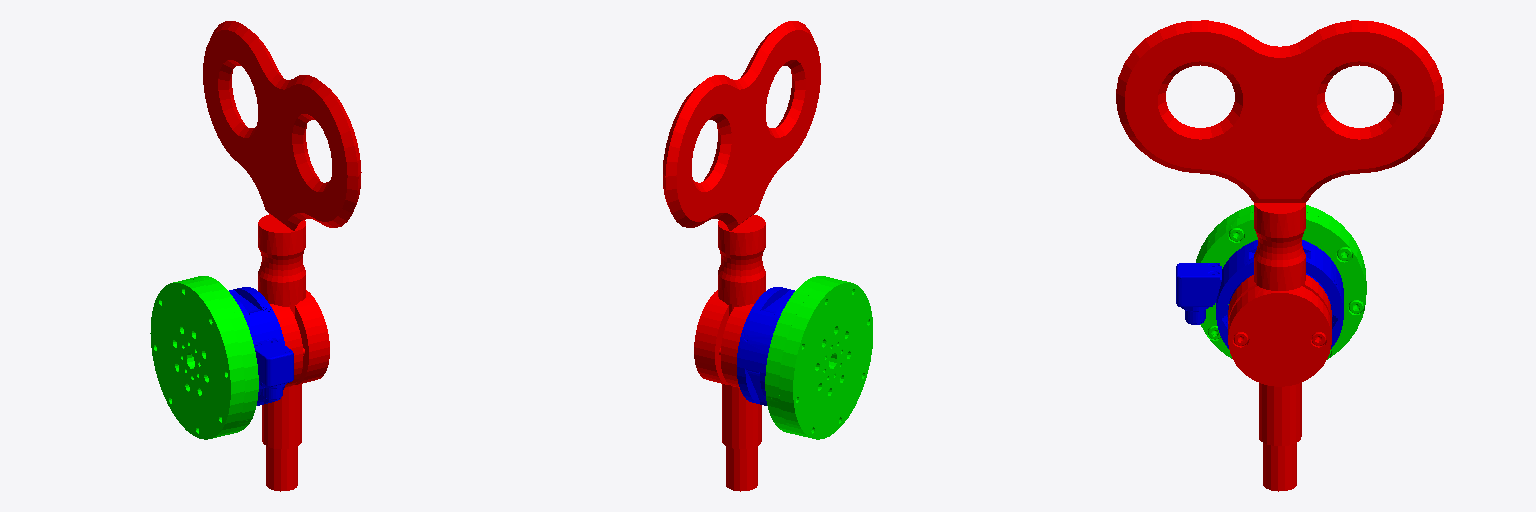
URDF robot description (kuka_kr16_2):
<?xml version="1.0" ?>
<!-- =================================================================================== -->
<!-- |    This document was autogenerated by xacro from kuka_tool.xacro                | -->
<!-- |    EDITING THIS FILE BY HAND IS NOT RECOMMENDED                                 | -->
<!-- =================================================================================== -->
<!--Generates a urdf from the macro in kr16_2_macro.xacro -->
<robot name="kuka_kr16_2" xmlns:xacro="http://wiki.ros.org/xacro">
  <!-- LINKS -->
  <!-- base link -->
  <link name="base_link">
    <inertial>
      <origin rpy="0 0 0" xyz="0 0 0"/>
      <mass value="2"/>
      <inertia ixx="0.01" ixy="0" ixz="0" iyy="0.01" iyz="0" izz="0.01"/>
    </inertial>
    <visual>
      <origin rpy="0 0 0" xyz="0 0 0"/>
      <geometry>
        <mesh filename="package://kuka_kr16_support/meshes/kr16_2/visual/base_link.dae"/>
      </geometry>
    </visual>
    <collision>
      <origin rpy="0 0 0" xyz="0 0 0"/>
      <geometry>
        <mesh filename="package://kuka_kr16_support/meshes/kr16_2/collision/base_link.stl"/>
      </geometry>
    </collision>
  </link>
  <!-- link 1 (A1) -->
  <link name="link_1">
    <inertial>
      <origin rpy="0 0 0" xyz="0 0 0"/>
      <mass value="2"/>
      <inertia ixx="0.01" ixy="0" ixz="0" iyy="0.01" iyz="0" izz="0.01"/>
    </inertial>
    <visual>
      <origin rpy="0 0 0" xyz="0 0 0"/>
      <geometry>
        <mesh filename="package://kuka_kr16_support/meshes/kr16_2/visual/link_1.dae"/>
      </geometry>
    </visual>
    <collision>
      <origin rpy="0 0 0" xyz="0 0 0"/>
      <geometry>
        <mesh filename="package://kuka_kr16_support/meshes/kr16_2/collision/link_1.stl"/>
      </geometry>
    </collision>
  </link>
  <!-- link 2 -->
  <link name="link_2">
    <inertial>
      <origin rpy="0 0 0" xyz="0 0 0"/>
      <mass value="2"/>
      <inertia ixx="0.01" ixy="0" ixz="0" iyy="0.01" iyz="0" izz="0.01"/>
    </inertial>
    <visual>
      <origin rpy="0 0 0" xyz="0 0 0"/>
      <geometry>
        <mesh filename="package://kuka_kr16_support/meshes/kr16_2/visual/link_2.dae"/>
      </geometry>
    </visual>
    <collision>
      <origin rpy="0 0 0" xyz="0 0 0"/>
      <geometry>
        <mesh filename="package://kuka_kr16_support/meshes/kr16_2/collision/link_2.stl"/>
      </geometry>
    </collision>
  </link>
  <!-- link 3 -->
  <link name="link_3">
    <inertial>
      <origin rpy="0 0 0" xyz="0 0 0"/>
      <mass value="2"/>
      <inertia ixx="0.01" ixy="0" ixz="0" iyy="0.01" iyz="0" izz="0.01"/>
    </inertial>
    <visual>
      <origin rpy="0 0 0" xyz="0 0 0"/>
      <geometry>
        <mesh filename="package://kuka_kr16_support/meshes/kr16_2/visual/link_3.dae"/>
      </geometry>
    </visual>
    <collision>
      <origin rpy="0 0 0" xyz="0 0 0"/>
      <geometry>
        <mesh filename="package://kuka_kr16_support/meshes/kr16_2/collision/link_3.stl"/>
      </geometry>
    </collision>
  </link>
  <!-- link 4 -->
  <link name="link_4">
    <inertial>
      <origin rpy="0 0 0" xyz="0 0 0"/>
      <mass value="2"/>
      <inertia ixx="0.01" ixy="0" ixz="0" iyy="0.01" iyz="0" izz="0.01"/>
    </inertial>
    <visual>
      <origin rpy="0 0 0" xyz="0 0 0"/>
      <geometry>
        <mesh filename="package://kuka_kr16_support/meshes/kr16_2/visual/link_4.dae"/>
      </geometry>
    </visual>
    <collision>
      <origin rpy="0 0 0" xyz="0 0 0"/>
      <geometry>
        <mesh filename="package://kuka_kr16_support/meshes/kr16_2/collision/link_4.stl"/>
      </geometry>
    </collision>
  </link>
  <!-- link 5 -->
  <link name="link_5">
    <inertial>
      <origin rpy="0 0 0" xyz="0 0 0"/>
      <mass value="2"/>
      <inertia ixx="0.01" ixy="0" ixz="0" iyy="0.01" iyz="0" izz="0.01"/>
    </inertial>
    <visual>
      <origin rpy="0 0 0" xyz="0 0 0"/>
      <geometry>
        <mesh filename="package://kuka_kr16_support/meshes/kr16_2/visual/link_5.dae"/>
      </geometry>
    </visual>
    <collision>
      <origin rpy="0 0 0" xyz="0 0 0"/>
      <geometry>
        <mesh filename="package://kuka_kr16_support/meshes/kr16_2/collision/link_5.stl"/>
      </geometry>
    </collision>
  </link>
  <!-- link 6 -->
  <link name="link_6">
    <inertial>
      <origin rpy="0 0 0" xyz="0 0 0"/>
      <mass value="2"/>
      <inertia ixx="0.01" ixy="0" ixz="0" iyy="0.01" iyz="0" izz="0.01"/>
    </inertial>
    <visual>
      <origin rpy="0 0 0" xyz="0 0 0"/>
      <geometry>
        <mesh filename="package://kuka_kr16_support/meshes/kr16_2/visual/link_6.dae"/>
      </geometry>
    </visual>
    <collision>
      <origin rpy="0 0 0" xyz="0 0 0"/>
      <geometry>
        <mesh filename="package://kuka_kr16_support/meshes/kr16_2/collision/link_6.stl"/>
      </geometry>
    </collision>
  </link>
  <!-- tool 0 -->
  <!-- This frame corresponds to the $FLANGE coordinate system in KUKA KRC controllers. -->
  <link name="tool0"/>
  <!-- flange link -->
  <link name="flange_link">
    <inertial>
      <origin rpy="0 0 0" xyz="-2.7886E-05 -0.00014096 0.010059"/>
      <mass value="0.1483"/>
      <inertia ixx="6.5965E-06" ixy="1.8314E-07" ixz="1.3017E-08" iyy="7.486E-06" iyz="6.5797E-08" izz="6.7095E-06"/>
    </inertial>
    <visual>
      <origin rpy="0 0 0" xyz="0 0 0"/>
      <geometry>
        <mesh filename="package://tool_tms2/meshes/flange_link.STL"/>
      </geometry>
      <material name="">
        <color rgba="0 1 0 1"/>
      </material>
    </visual>
    <collision>
      <origin rpy="0 0 0" xyz="0 0 0"/>
      <geometry>
        <mesh filename="package://tool_tms2/meshes/flange_link.STL"/>
      </geometry>
    </collision>
  </link>
  <!-- force link -->
  <link name="force_Link">
    <inertial>
      <origin rpy="0 0 0" xyz="0.0074099 0.0014123 -0.0020129"/>
      <mass value="0.071157"/>
      <inertia ixx="3.1053E-06" ixy="-4.0417E-06" ixz="-2.6779E-06" iyy="2.36E-05" iyz="-5.6239E-07" izz="2.2862E-05"/>
    </inertial>
    <visual>
      <origin rpy="0 0 0" xyz="0 0 0"/>
      <geometry>
        <mesh filename="package://tool_tms2/meshes/force_Link.STL"/>
      </geometry>
      <material name="">
        <color rgba="0 0 1 1"/>
      </material>
    </visual>
    <collision>
      <origin rpy="0 0 0" xyz="0 0 0"/>
      <geometry>
        <mesh filename="package://tool_tms2/meshes/force_Link.STL"/>
      </geometry>
    </collision>
  </link>
  <!-- tms link -->
  <link name="tms_Link">
    <inertial>
      <origin rpy="0 0 0" xyz="-1.0713E-10 0.0095121 -0.063036"/>
      <mass value="0.27445"/>
      <inertia ixx="0.001356" ixy="-2.0876E-10" ixz="1.8499E-12" iyy="0.0013498" iyz="-2.0995E-07" izz="7.4545E-06"/>
    </inertial>
    <visual>
      <origin rpy="0 0 0" xyz="0 0 0"/>
      <geometry>
        <mesh filename="package://tool_tms2/meshes/tms_Link.STL"/>
      </geometry>
      <material name="">
        <color rgba="1 0 0 1"/>
      </material>
    </visual>
    <collision>
      <origin rpy="0 0 0" xyz="0 0 0"/>
      <geometry>
        <mesh filename="package://tool_tms2/meshes/tms_Link.STL"/>
      </geometry>
    </collision>
  </link>
  <link name="tmscoil"/>
  <link name="forcesensor"/>
  <!-- END LINKS -->
  <!-- JOINTS -->
  <!-- joint 1 (A1) -->
  <joint name="joint_a1" type="revolute">
    <origin rpy="0 0 0" xyz="0 0 0.675"/>
    <parent link="base_link"/>
    <child link="link_1"/>
    <axis xyz="0 0 -1"/>
    <limit effort="0" lower="-3.22885911619" upper="3.22885911619" velocity="2.72271363311"/>
  </joint>
  <!-- joint 2 (A2) -->
  <joint name="joint_a2" type="revolute">
    <origin rpy="0 0 0" xyz="0.26 0 0"/>
    <parent link="link_1"/>
    <child link="link_2"/>
    <axis xyz="0 1 0"/>
    <limit effort="0" lower="-2.70526034059" upper="0.610865238198" velocity="2.72271363311"/>
  </joint>
  <!-- joint 3 (A3) -->
  <joint name="joint_a3" type="revolute">
    <origin rpy="0 0 0" xyz="0.68 0 0"/>
    <parent link="link_2"/>
    <child link="link_3"/>
    <axis xyz="0 1 0"/>
    <limit effort="0" lower="-2.26892802759" upper="2.68780704807" velocity="2.72271363311"/>
  </joint>
  <!-- joint 4 (A4) -->
  <joint name="joint_a4" type="revolute">
    <origin rpy="0 0 0" xyz="0.67 0 -0.035"/>
    <parent link="link_3"/>
    <child link="link_4"/>
    <axis xyz="-1 0 0"/>
    <limit effort="0" lower="-6.10865238198" upper="6.10865238198" velocity="5.75958653158"/>
  </joint>
  <!-- joint 5 (A5) -->
  <joint name="joint_a5" type="revolute">
    <origin rpy="0 0 0" xyz="0 0 0"/>
    <parent link="link_4"/>
    <child link="link_5"/>
    <axis xyz="0 1 0"/>
    <limit effort="0" lower="-2.26892802759" upper="2.26892802759" velocity="5.75958653158"/>
  </joint>
  <!-- joint 6 (A6) -->
  <joint name="joint_a6" type="revolute">
    <origin rpy="0 0 0" xyz="0 0 0"/>
    <parent link="link_5"/>
    <child link="link_6"/>
    <axis xyz="-1 0 0"/>
    <limit effort="0" lower="-6.10865238198" upper="6.10865238198" velocity="10.7337748998"/>
  </joint>
  <!-- tool frame - fixed frame -->
  <joint name="joint_a6-tool0" type="fixed">
    <parent link="link_6"/>
    <child link="tool0"/>
    <origin rpy="0 1.57079632679 0" xyz="0.158 0 0"/>
  </joint>
  <joint name="tool0-flange" type="fixed">
    <parent link="tool0"/>
    <child link="flange_link"/>
    <origin rpy="-1.57079632679 0 3.14159265359" xyz="0 0 0"/>
  </joint>
  <!-- end efffector -->
  <joint name="flange" type="fixed">
    <origin rpy="1.57079632679 -1.57079632679 3.14159265359" xyz="0 -0.034 0"/>
    <parent link="flange_link"/>
    <child link="force_Link"/>
    <axis xyz="0 0 0"/>
  </joint>
  <joint name="force_sensor" type="fixed">
    <origin rpy="3.14159265359 0 1.57079632679" xyz="0 0 0"/>
    <parent link="force_Link"/>
    <child link="forcesensor"/>
    <axis xyz="0 0 0"/>
  </joint>
  <joint name="force_tms" type="fixed">
    <origin rpy="-1.57079632679 0 -3.14159265359" xyz="0 0 -0.0221"/>
    <parent link="force_Link"/>
    <child link="tms_Link"/>
    <axis xyz="0 0 0"/>
  </joint>
  <joint name="force_tms-tmscoil" type="fixed">
    <origin rpy="-1.57079632679 -1.57079632679 0" xyz="0 0 -0.15"/>
    <parent link="tms_Link"/>
    <child link="tmscoil"/>
  </joint>
  <!-- END JOINTS -->
  <!-- ROS base_link to KUKA $ROBROOT coordinate system transform -->
  <link name="base"/>
  <joint name="base_link-base" type="fixed">
    <parent link="base_link"/>
    <child link="base"/>
  </joint>
  <link name="base_dummy"/>
  <joint name="base_link-base_dummy" type="fixed">
    <origin rpy="-3.14159265359 0 -3.14159265359" xyz="0 0 0"/>
    <parent link="base_link"/>
    <child link="base_dummy"/>
  </joint>
</robot>

--- Facts derived from the render (not from the file) ---
The picture shows the robot from 3 angles, left to right: view 1: azimuth 30°, elevation 25°; view 2: azimuth 150°, elevation 25°; view 3: azimuth 270°, elevation 25°; orthographic projection.
Robot: kuka_kr16_2 — 15 links, 14 joints (6 revolute, 8 fixed); root link base_link; default pose: every joint at zero.
Visible links, largest first — view 1: tms_Link, flange_link, force_Link; view 2: tms_Link, flange_link, force_Link; view 3: tms_Link, flange_link, force_Link.
Boxes of the visible links, bbox=[...] form: tms_Link: bbox=[203, 21, 361, 491]; flange_link: bbox=[150, 276, 258, 439]; force_Link: bbox=[229, 287, 293, 405]; tms_Link: bbox=[663, 21, 820, 491]; flange_link: bbox=[765, 276, 872, 439]; force_Link: bbox=[737, 287, 794, 405]; tms_Link: bbox=[1116, 20, 1443, 491]; flange_link: bbox=[1196, 205, 1366, 359]; force_Link: bbox=[1176, 240, 1343, 348].
Bounding box of the posed robot: 0.0826 × 0.1897 × 0.2956 m (x, y, z).
3 mesh visuals loaded from 10 distinct referenced files (3 binary STL); not drawn: 7 (reference not matched to a file when rendering).